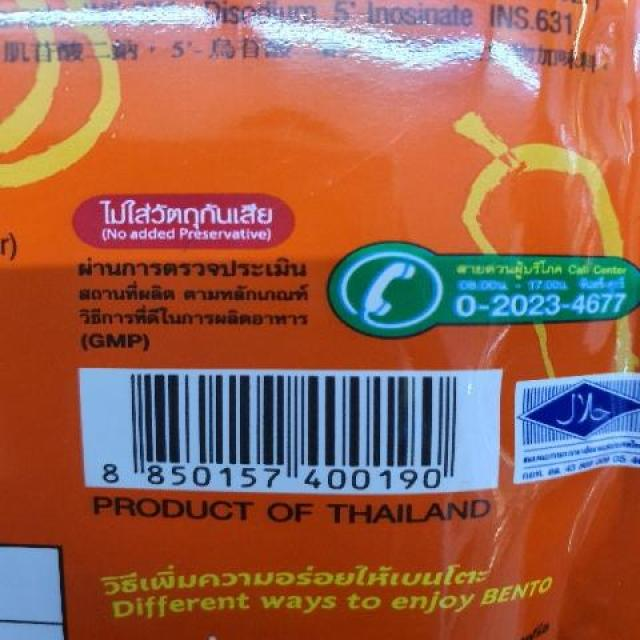Barcode: (83, 368, 497, 489)
